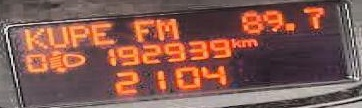-: (281, 20, 297, 31)
0: (172, 66, 199, 89), (21, 52, 47, 71)
1: (153, 68, 167, 89), (105, 47, 115, 66)
2: (112, 69, 141, 95), (139, 43, 162, 63)
3: (185, 40, 208, 60)
4: (199, 64, 225, 84)
7: (299, 5, 326, 29)
8: (239, 11, 263, 34)
9: (161, 41, 184, 62), (117, 43, 139, 64), (261, 10, 281, 32), (208, 37, 228, 59)
X: (153, 16, 179, 40), (19, 27, 45, 49), (90, 22, 115, 44), (45, 25, 67, 48), (131, 17, 153, 39), (67, 24, 88, 46), (240, 38, 256, 45), (230, 36, 240, 47)
